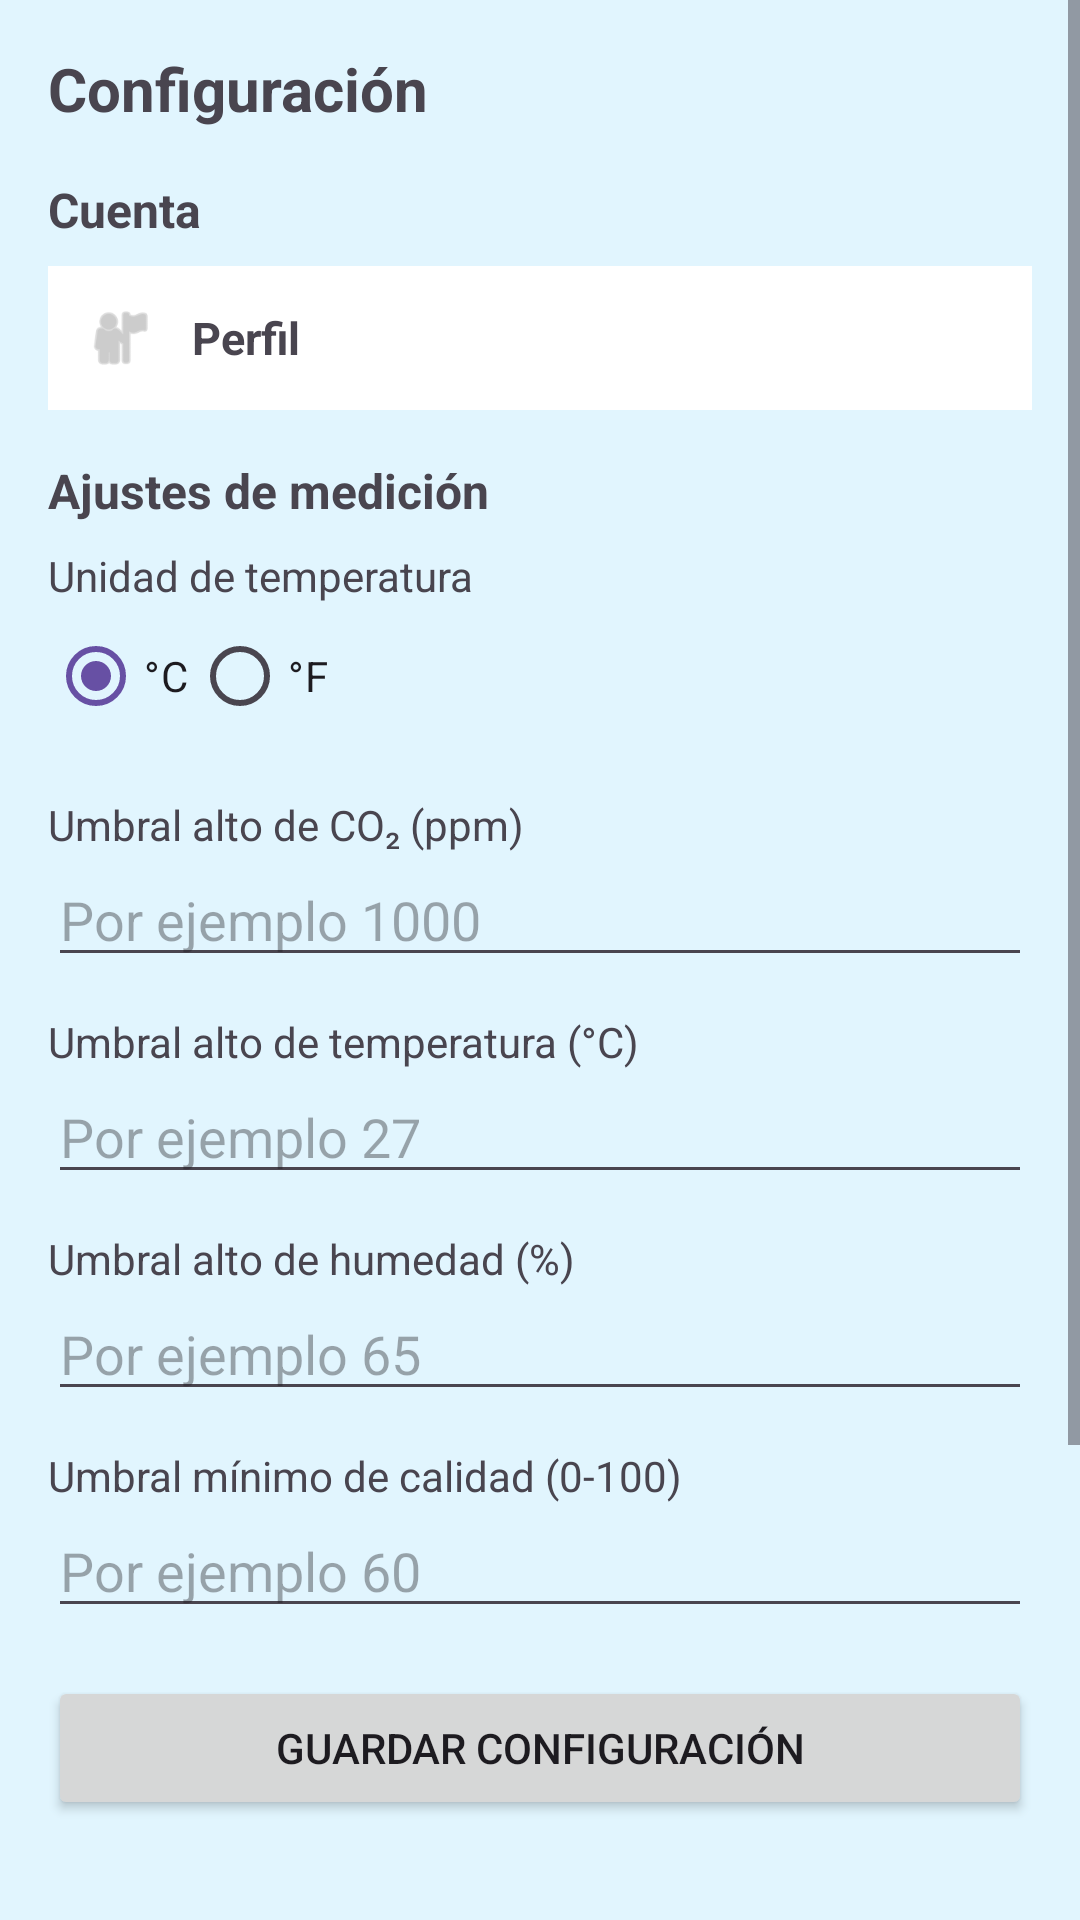

Locate icon controls on the screen. Image size 1080px x 1920px, boxes as (x1, y1, x2, y2).
myplaces: (94, 312, 147, 364)
